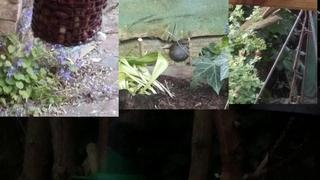sparrow: (162, 40, 189, 65)
